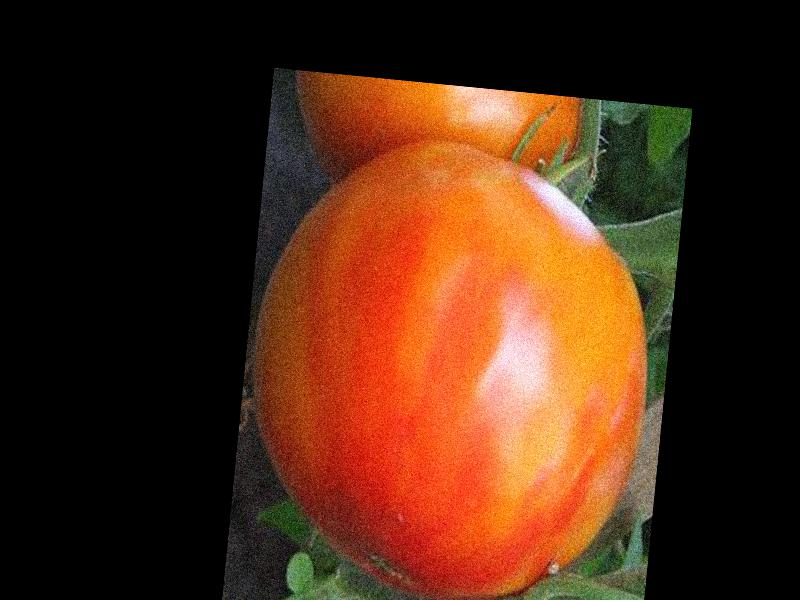Tomato: (232, 130, 667, 600)
